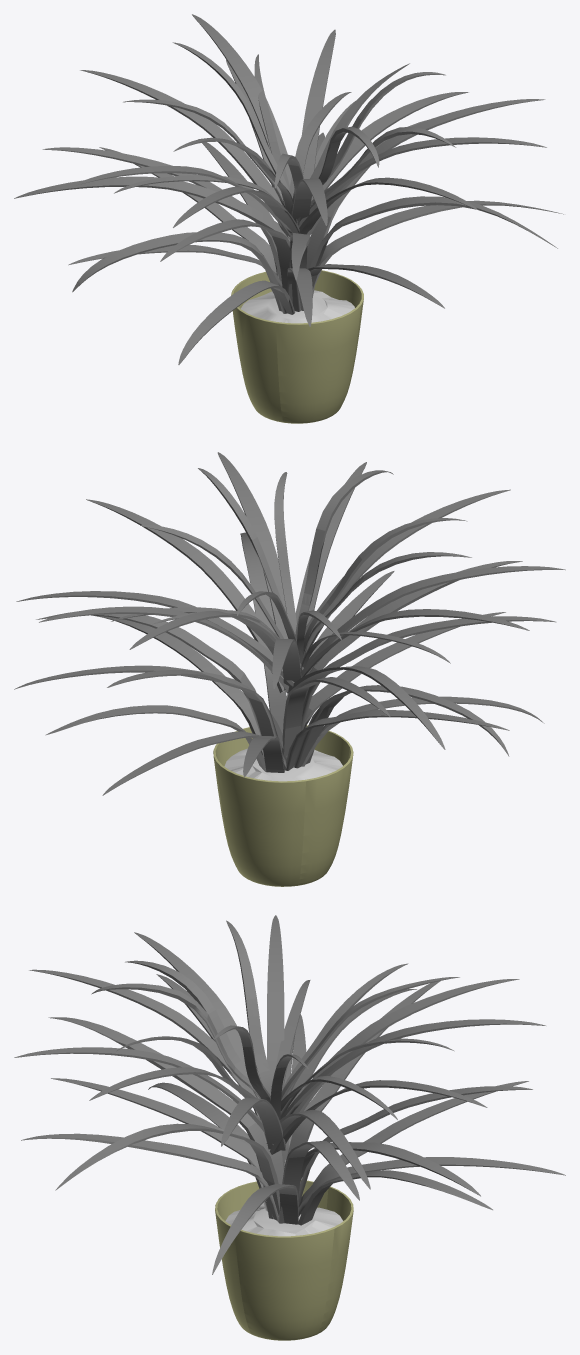
Rendered from plant.obj.
3 views of the same model, one above another, from view 1: azimuth 30°, elevation 25°; view 2: azimuth 150°, elevation 25°; view 3: azimuth 270°, elevation 25° (orthographic). The views are drawn at different scales.
Parts seen in each view (by area): view 1: (null); view 2: (null); view 3: (null).
Part boxes in pixels (left/top/right/bottom): (null): left=14, top=14, right=563, bottom=423; (null): left=14, top=452, right=565, bottom=886; (null): left=14, top=915, right=565, bottom=1340.
Bounding box in the file's own units: 4.8 × 3.26 × 4.74.
